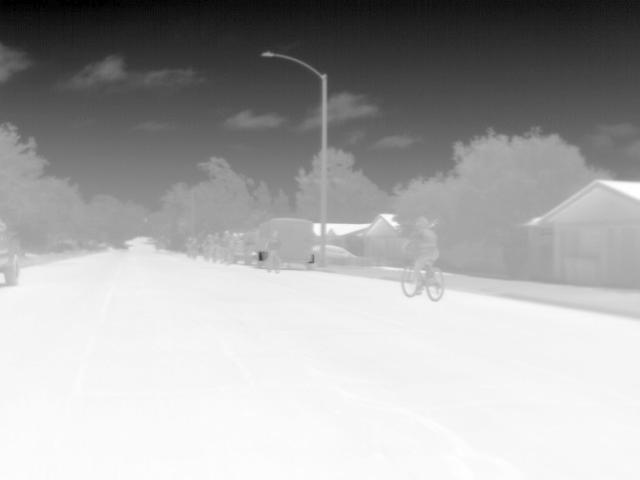car: (0, 219, 21, 286), (325, 242, 356, 258)
person: (400, 215, 443, 289), (265, 228, 283, 262), (221, 228, 234, 248), (187, 235, 201, 253), (202, 234, 216, 250)
